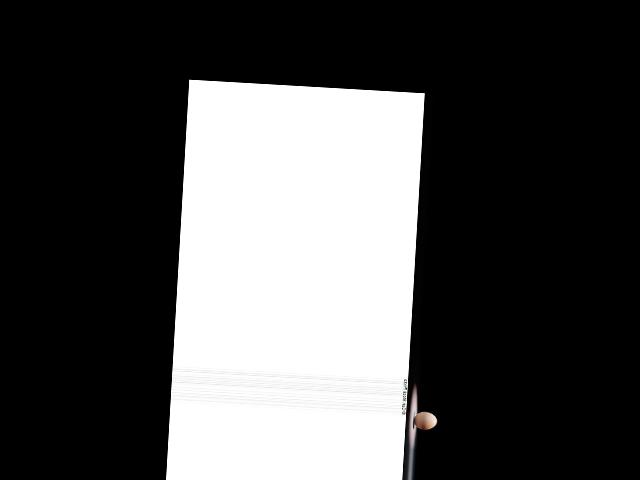egg: (413, 411, 437, 430)
